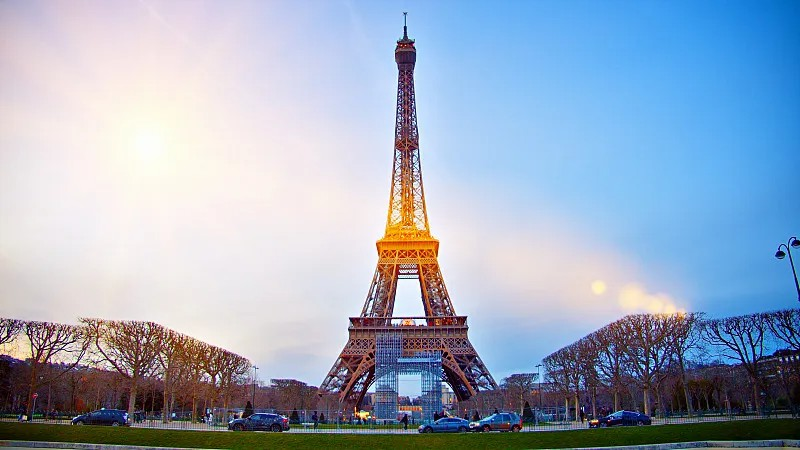Eiffel: (307, 13, 510, 416)
